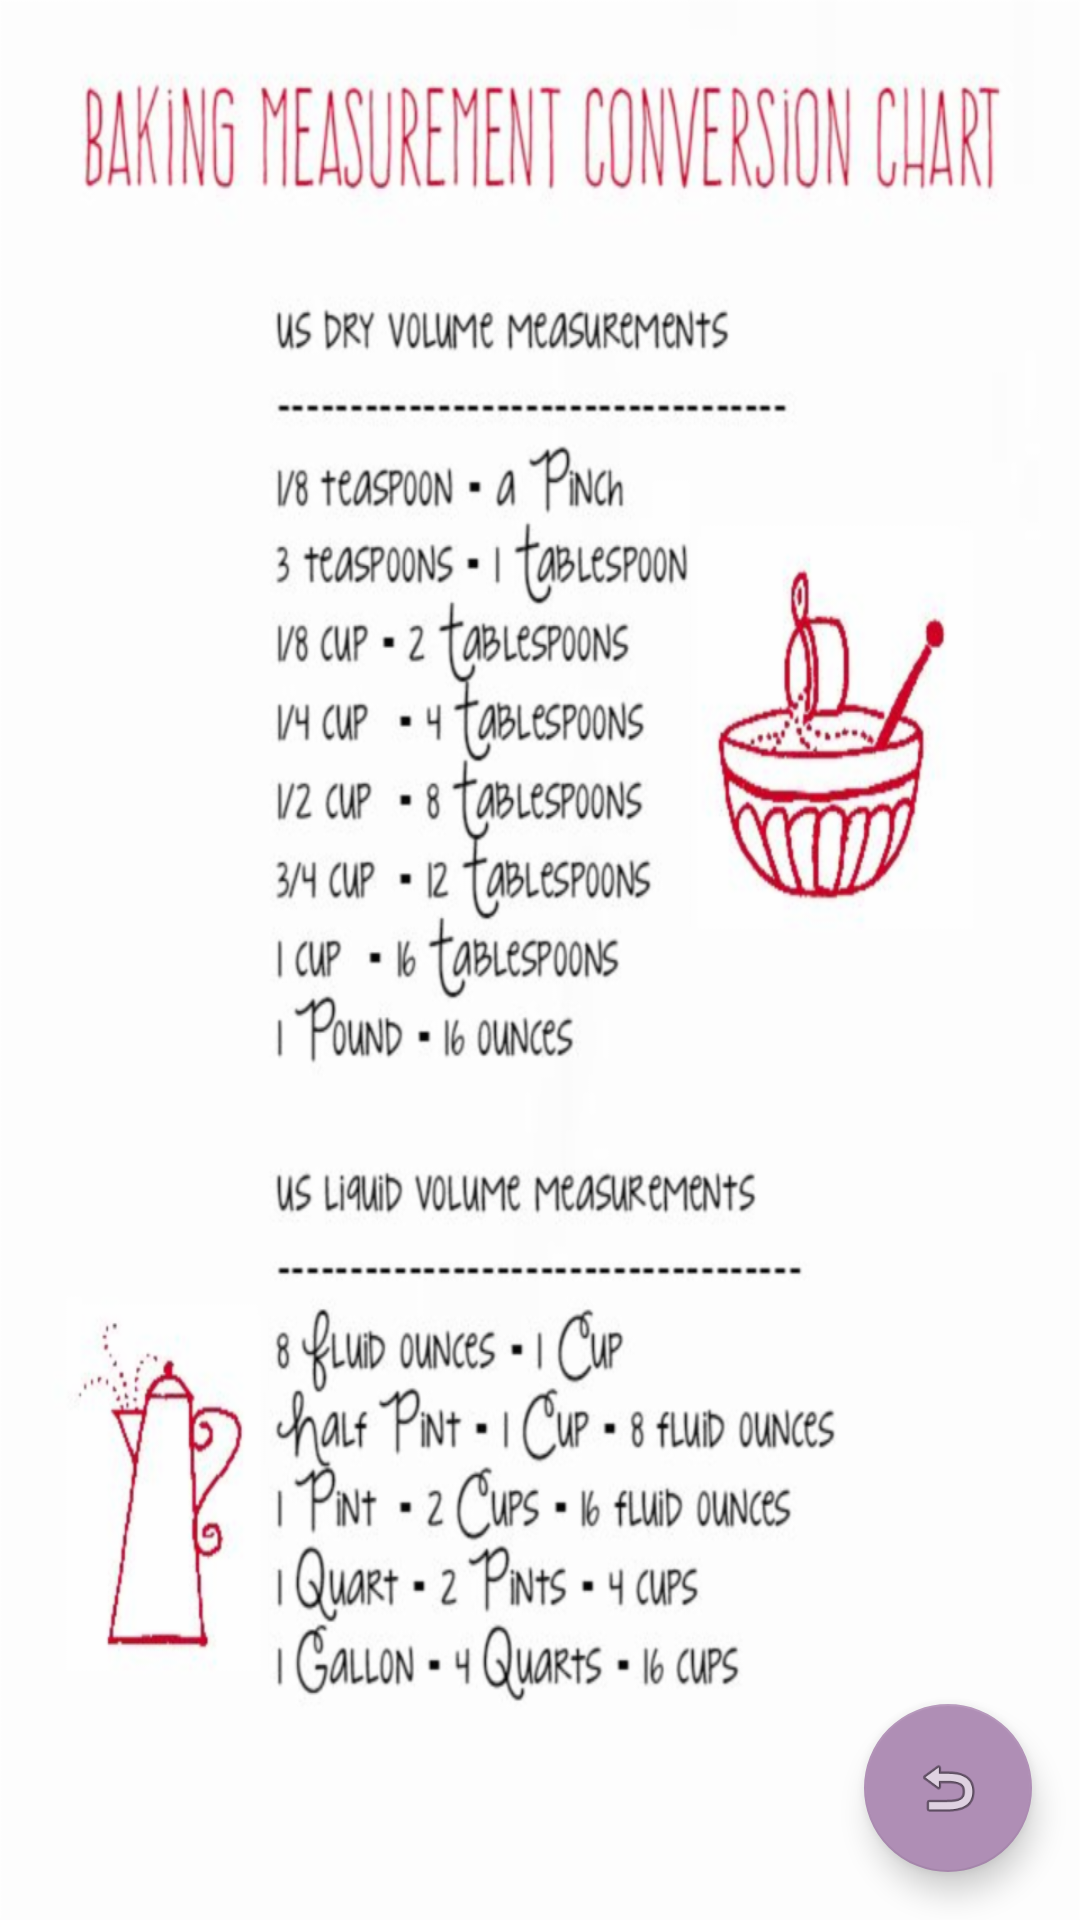

Locate icon controls on the screen. Image size 1080w x 1920h, boxes as (x1, y1, x2, y2).
revert: (864, 1704, 1032, 1872)
